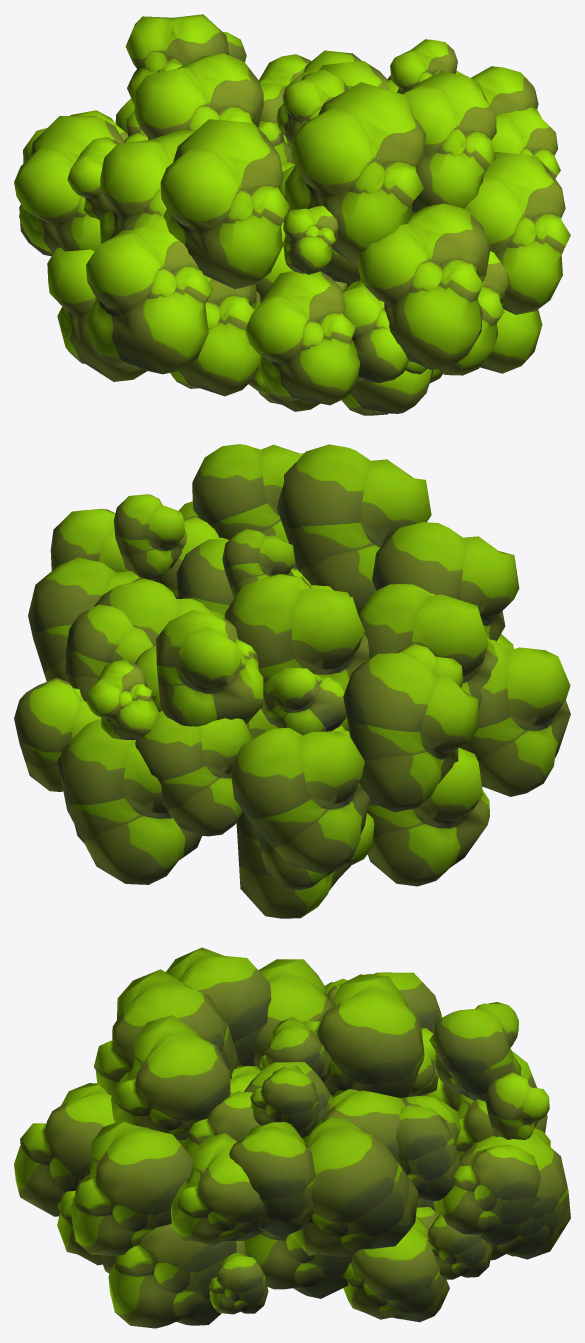
Rendered from leaves.glb.
The picture shows the model from 3 angles, top to bottom: view 1: azimuth 30°, elevation 25°; view 2: azimuth 150°, elevation 25°; view 3: azimuth 270°, elevation 25°; orthographic projection. The views are drawn at different scales.
Parts seen in each view (by area): view 1: Leaves-LP2.059, Leaves-LP2.071, Leaves-LP2.078, Leaves-LP2.075, Leaves-LP2.076, Leaves-LP2.060, Leaves-LP2.061, Leaves-LP2.056, Leaves-LP2.074, Leaves-LP2.072, Leaves-LP2.058, Leaves-LP2.053 (+19 smaller); view 2: Leaves-LP2.059, Leaves-LP2.069, Leaves-LP2.056, Leaves-LP2.068, Leaves-LP2.075, Leaves-LP2.074, Leaves-LP2.053, Leaves-LP2.091, Leaves-LP2.071, Leaves-LP2.054, Leaves-LP2.072, Leaves-LP2.061 (+15 smaller); view 3: Leaves-LP2.062, Leaves-LP2.060, Leaves-LP2.074, Leaves-LP2.061, Leaves-LP2.103, Leaves-LP2.078, Leaves-LP2.066, Leaves-LP2.059, Leaves-LP2.065, Leaves-LP2.084, Leaves-LP2.064, Leaves-LP2.053 (+21 smaller).
Part boxes in pixels (x1=…): Leaves-LP2.059: x1=285, y1=82, x2=425, y2=263; Leaves-LP2.071: x1=160, y1=119, x2=289, y2=289; Leaves-LP2.078: x1=358, y1=203, x2=490, y2=370; Leaves-LP2.075: x1=86, y1=226, x2=213, y2=374; Leaves-LP2.076: x1=245, y1=271, x2=359, y2=405; Leaves-LP2.060: x1=464, y1=152, x2=570, y2=314; Leaves-LP2.061: x1=403, y1=71, x2=496, y2=212; Leaves-LP2.056: x1=14, y1=116, x2=124, y2=253; Leaves-LP2.074: x1=134, y1=53, x2=263, y2=139; Leaves-LP2.072: x1=100, y1=128, x2=194, y2=243; Leaves-LP2.058: x1=170, y1=275, x2=260, y2=396; Leaves-LP2.053: x1=125, y1=14, x2=228, y2=104; Leaves-LP2.059: x1=276, y1=444, x2=431, y2=611; Leaves-LP2.069: x1=231, y1=727, x2=369, y2=873; Leaves-LP2.056: x1=343, y1=653, x2=478, y2=812; Leaves-LP2.068: x1=61, y1=719, x2=201, y2=884; Leaves-LP2.075: x1=459, y1=639, x2=570, y2=796; Leaves-LP2.074: x1=225, y1=573, x2=369, y2=731; Leaves-LP2.053: x1=156, y1=610, x2=263, y2=726; Leaves-LP2.091: x1=367, y1=747, x2=489, y2=886; Leaves-LP2.071: x1=372, y1=522, x2=519, y2=641; Leaves-LP2.054: x1=135, y1=711, x2=252, y2=836; Leaves-LP2.072: x1=357, y1=584, x2=498, y2=711; Leaves-LP2.061: x1=192, y1=444, x2=304, y2=568; Leaves-LP2.062: x1=290, y1=1117, x2=418, y2=1257; Leaves-LP2.060: x1=70, y1=1121, x2=193, y2=1256; Leaves-LP2.074: x1=304, y1=974, x2=424, y2=1097; Leaves-LP2.061: x1=111, y1=1015, x2=230, y2=1139; Leaves-LP2.103: x1=108, y1=1223, x2=236, y2=1328; Leaves-LP2.078: x1=14, y1=1083, x2=114, y2=1216; Leaves-LP2.066: x1=440, y1=1144, x2=541, y2=1245; Leaves-LP2.059: x1=94, y1=969, x2=238, y2=1095; Leaves-LP2.065: x1=171, y1=1133, x2=266, y2=1245; Leaves-LP2.084: x1=343, y1=1216, x2=449, y2=1322; Leaves-LP2.064: x1=229, y1=1122, x2=315, y2=1237; Leaves-LP2.053: x1=429, y1=1002, x2=521, y2=1101.
Size of the model in its own units: 1.12 by 0.7706 by 1.22.
Materials: 1 (1 with a texture image).
